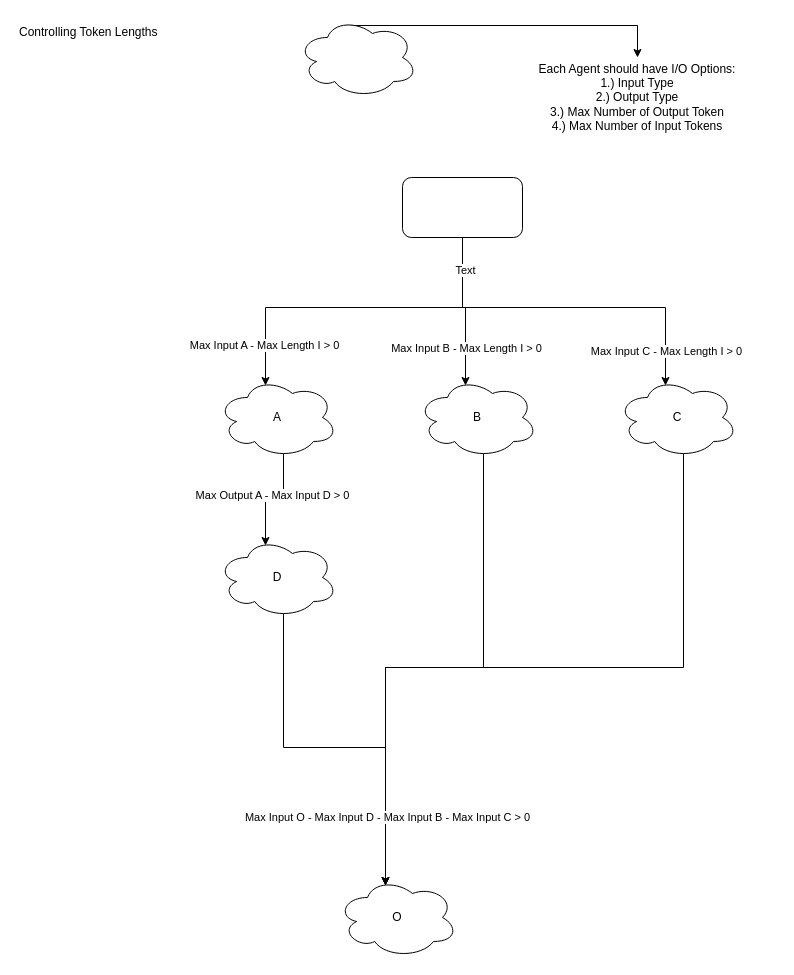
Image size: 794x975. Some labels were removed from this diagram. The shapes that lost their labels are listed below. From the top down, each one's centre as x and y in pixels, then its label:
[357,57]: Agent
[462,207]: Input
